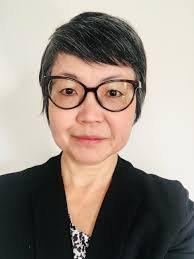Sober: (52, 56, 129, 156)
